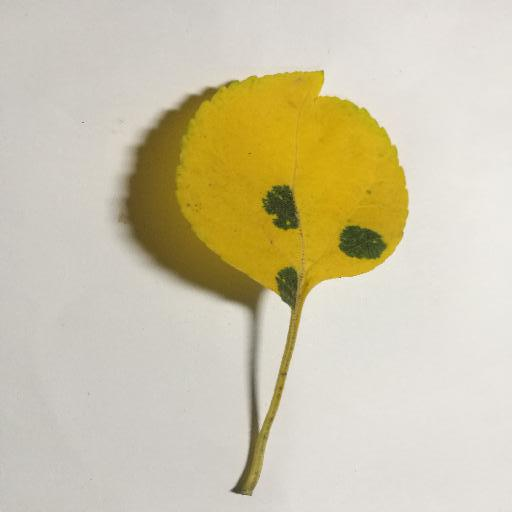Brown_Spot: (339, 228, 382, 259), (266, 190, 294, 224), (275, 268, 298, 307)
